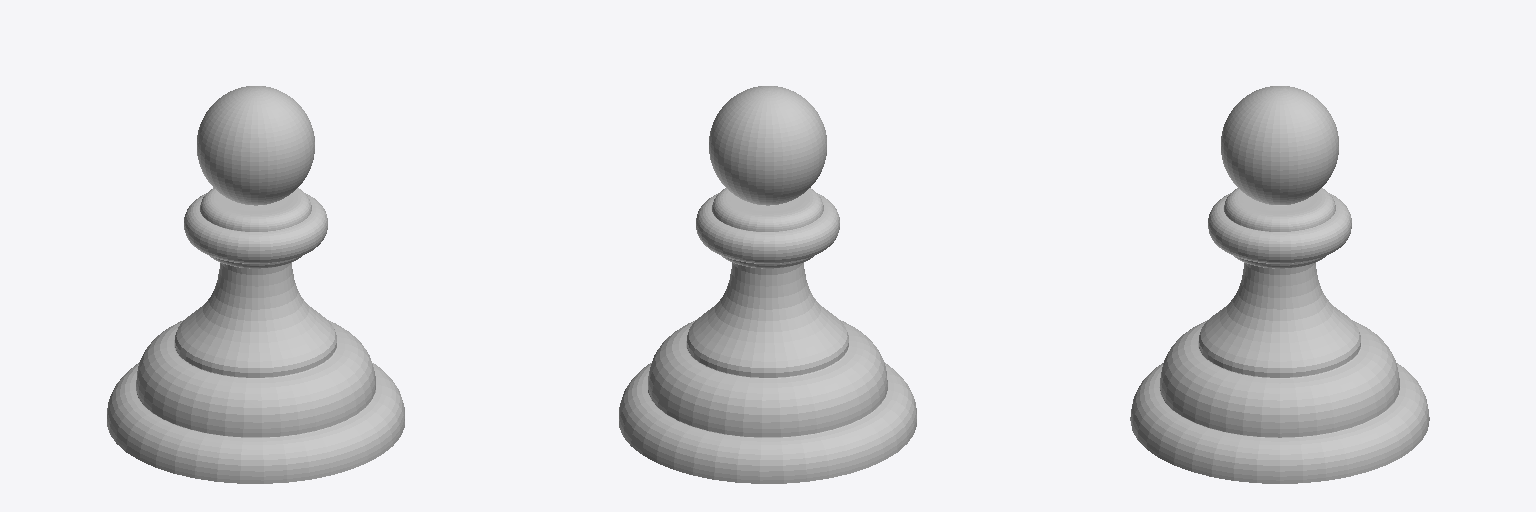
The model's file is finalsoliderrightup3.obj.
3 views of the same model, side by side, from view 1: azimuth 30°, elevation 25°; view 2: azimuth 150°, elevation 25°; view 3: azimuth 270°, elevation 25° (orthographic).
Visible parts, largest first — view 1: white_pawn1_Mesh.003; view 2: white_pawn1_Mesh.003; view 3: white_pawn1_Mesh.003.
Boxes of the visible parts, <box> form: white_pawn1_Mesh.003: <box>107,86,404,483</box>; white_pawn1_Mesh.003: <box>619,86,916,483</box>; white_pawn1_Mesh.003: <box>1130,86,1429,483</box>.
Bounding box in the file's own units: 0.489 × 0.5954 × 0.489.